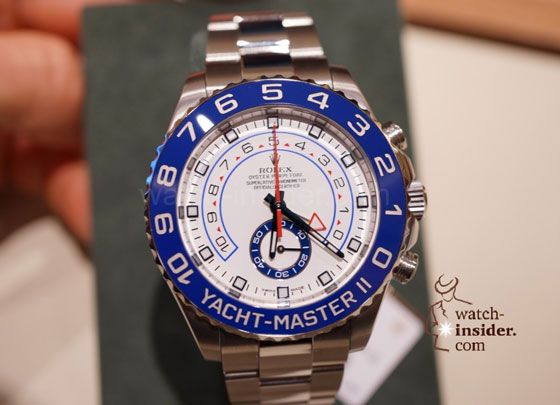clock: (177, 116, 375, 307)
